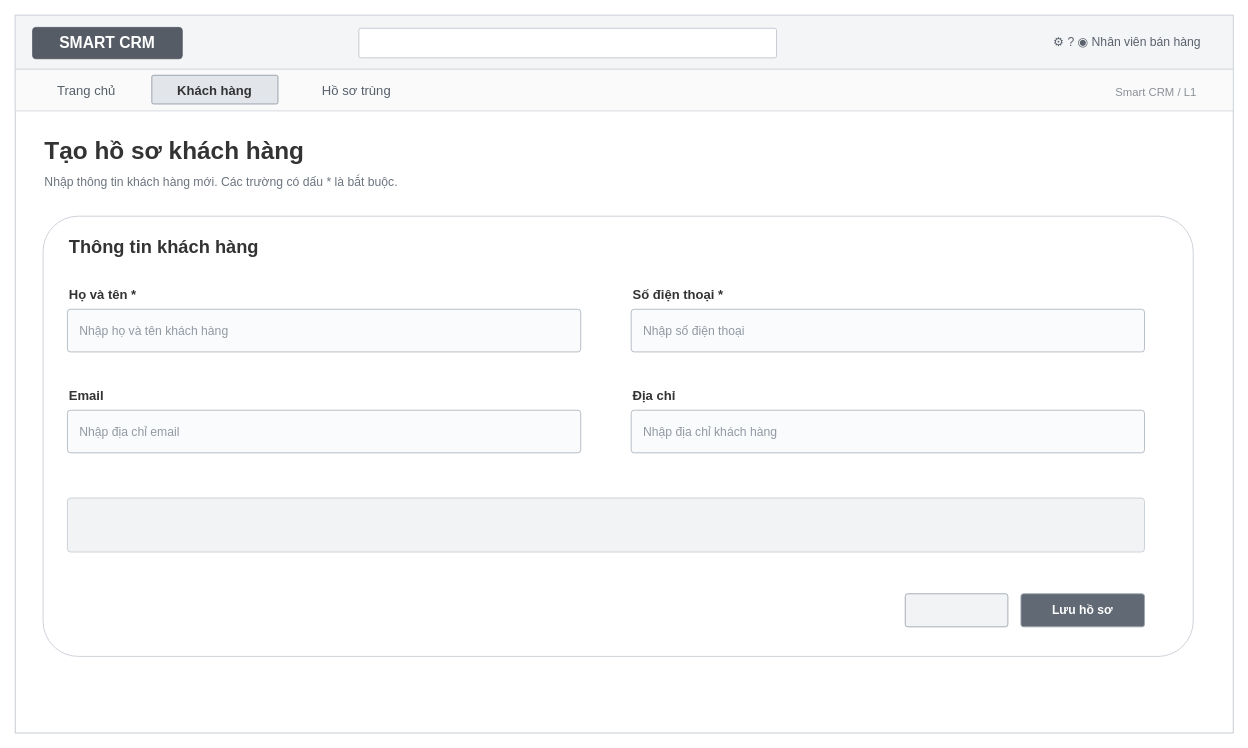
Image size: 1248x748. Some labels were removed from this diagram. The shapes that lost their labels are listed below. From the top down, each one's centre as x and y in pixels, then its label:
At pixel 567 42: "⌕ Tìm kiếm khách hàng, số điện thoại...".
At pixel 605 524: "ⓘ Hệ thống kiểm tra số điện thoại trùng trước khi tạo hồ sơ mới.".
At pixel 956 610: "Hủy".
